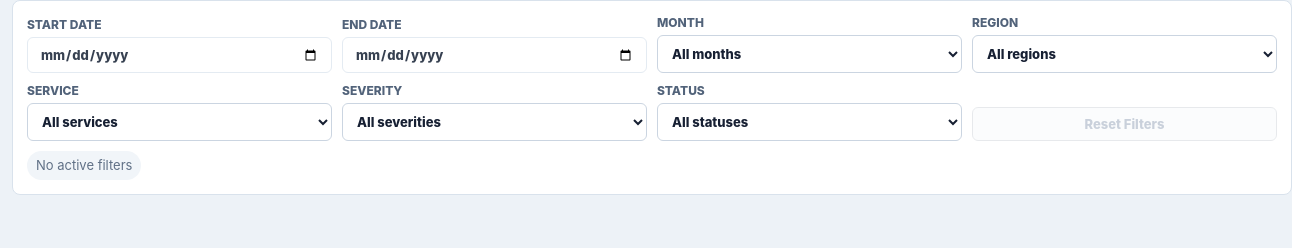
Test: FilterPanel › shows invalid range message and suppresses query params
In the date field labelled "Start Date": (180, 55) [27,37,332,73], type "2026-02-10"
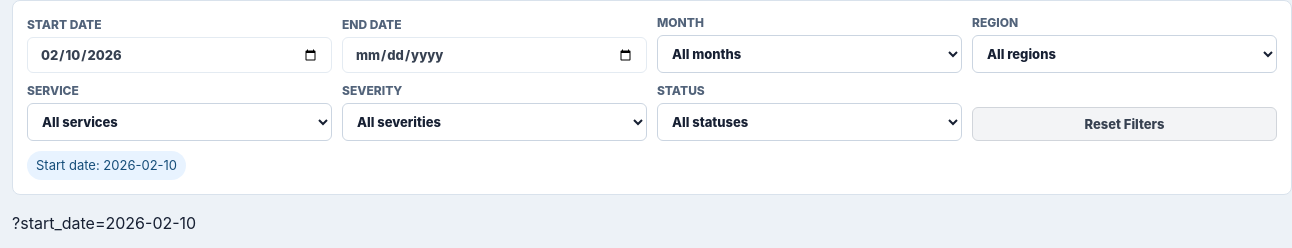
In the date field labelled "End Date": (494, 55) [342,37,647,73], type "2026-02-01"
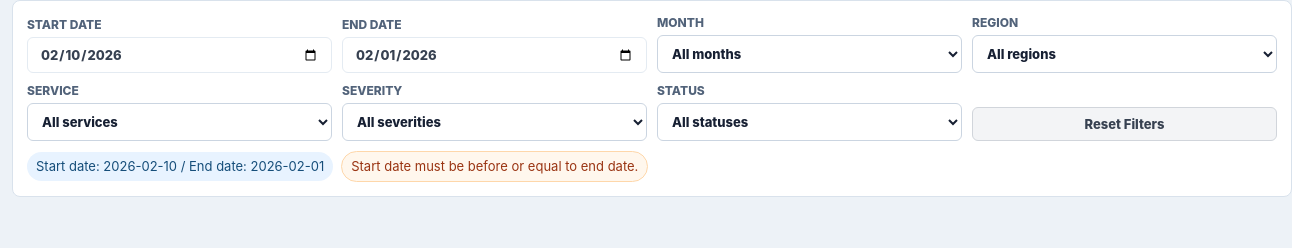
Expected: the text "Start date must be before or equal to end date." is shown, [341,151,648,182]
